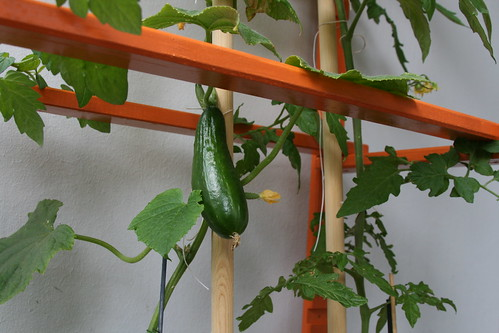cucumber: (192, 107, 248, 248)
